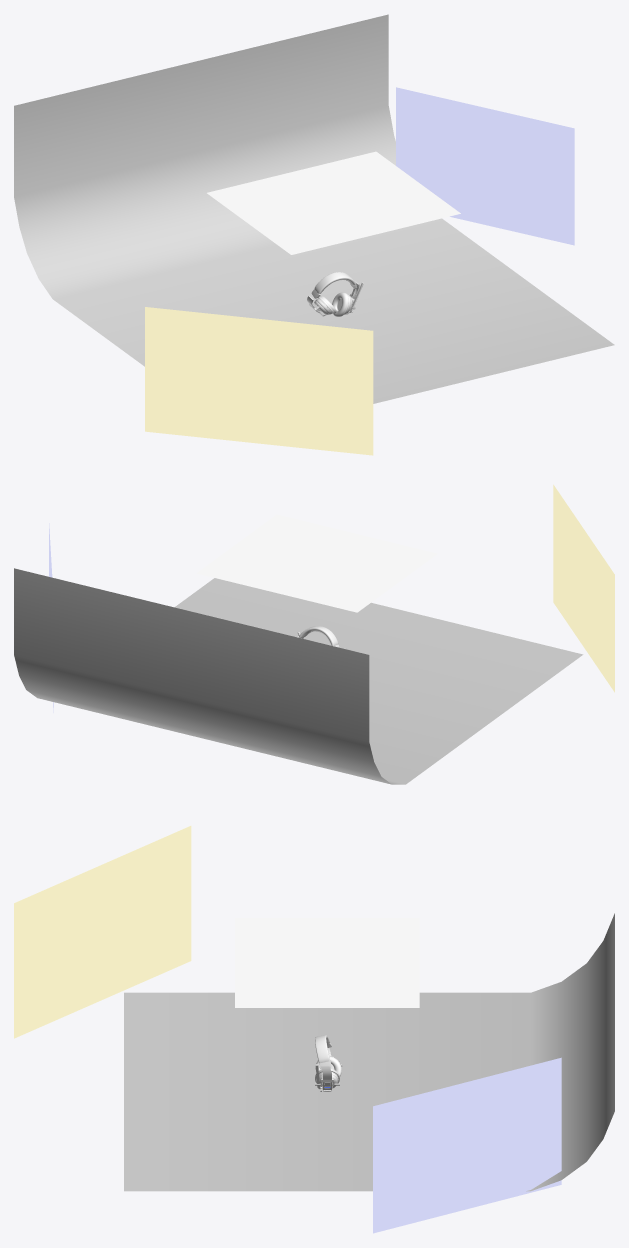
File: headphones.glb
3 views of the same model, one above another, from view 1: azimuth 30°, elevation 25°; view 2: azimuth 150°, elevation 25°; view 3: azimuth 270°, elevation 25° (orthographic). The views are drawn at different scales.
Visible parts, largest first — view 1: Plane, Plane.005, Plane.002, Plane.001; view 2: Plane, Plane.001, Plane.005; view 3: Plane, Plane.005, Plane.002, Plane.001.
Part boxes in pixels (left/top/right/bottom): Plane: left=14, top=14, right=614, bottom=403; Plane.005: left=145, top=307, right=373, bottom=455; Plane.002: left=396, top=87, right=574, bottom=245; Plane.001: left=207, top=151, right=460, bottom=254; Plane: left=14, top=568, right=583, bottom=784; Plane.001: left=196, top=514, right=437, bottom=612; Plane.005: left=553, top=484, right=614, bottom=692; Plane: left=124, top=913, right=614, bottom=1191; Plane.005: left=14, top=826, right=191, bottom=1038; Plane.002: left=373, top=1057, right=561, bottom=1233; Plane.001: left=235, top=918, right=419, bottom=1007.
Size of the model in its own units: 51.22 by 15.99 by 47.82.
